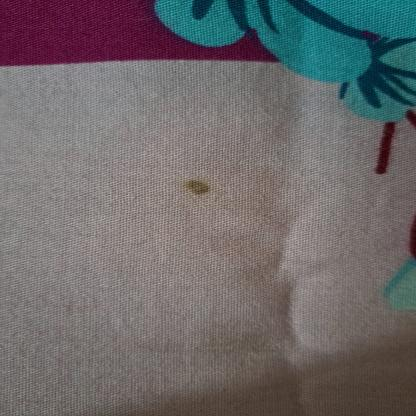spot: (176, 170, 226, 211)
